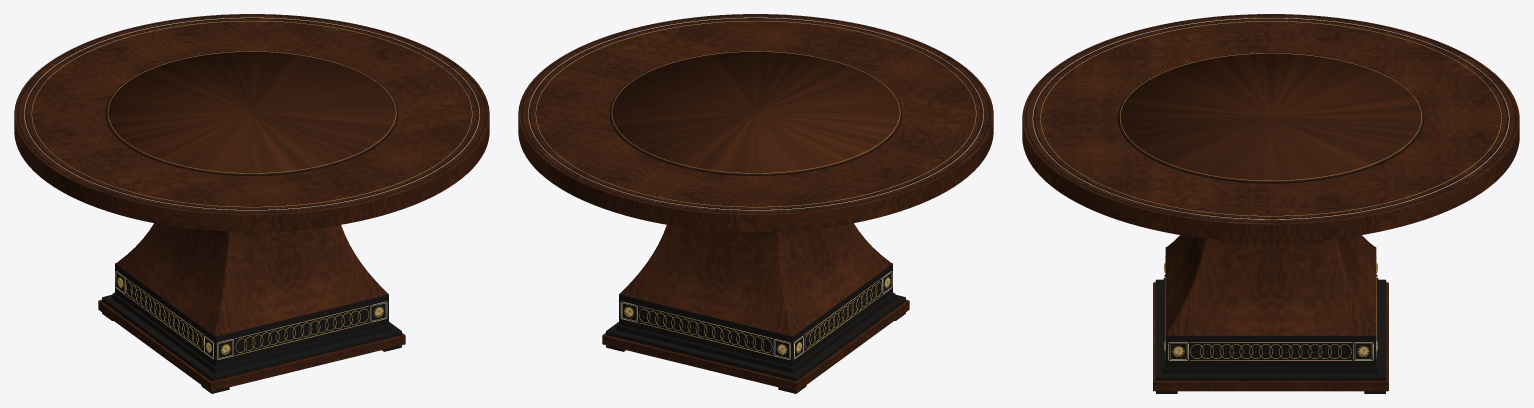
3 renders of one model, left to right at view 1: azimuth 30°, elevation 25°; view 2: azimuth 150°, elevation 25°; view 3: azimuth 270°, elevation 25°, orthographic. The views are drawn at different scales.
Visible parts, largest first — view 1: Nantes round dining table with Lazy Susan | dining-21 web ba; view 2: Nantes round dining table with Lazy Susan | dining-21 web ba; view 3: Nantes round dining table with Lazy Susan | dining-21 web ba.
Boxes of the visible parts, bbox=[...] form: Nantes round dining table with Lazy Susan | dining-21 web ba: bbox=[14, 14, 489, 393]; Nantes round dining table with Lazy Susan | dining-21 web ba: bbox=[518, 14, 993, 393]; Nantes round dining table with Lazy Susan | dining-21 web ba: bbox=[1022, 14, 1519, 393].
Bounding box in the file's own units: 1.6 × 0.8109 × 1.6.
6 materials, 1 textured.
